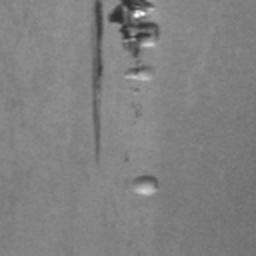Slag inclusion: (92, 0, 160, 166), (122, 64, 154, 82), (131, 174, 157, 196), (131, 88, 142, 96)
